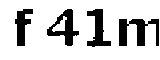1: (84, 7, 113, 49)
4: (43, 5, 81, 50)
f: (13, 3, 37, 49)
m: (118, 16, 160, 50)
